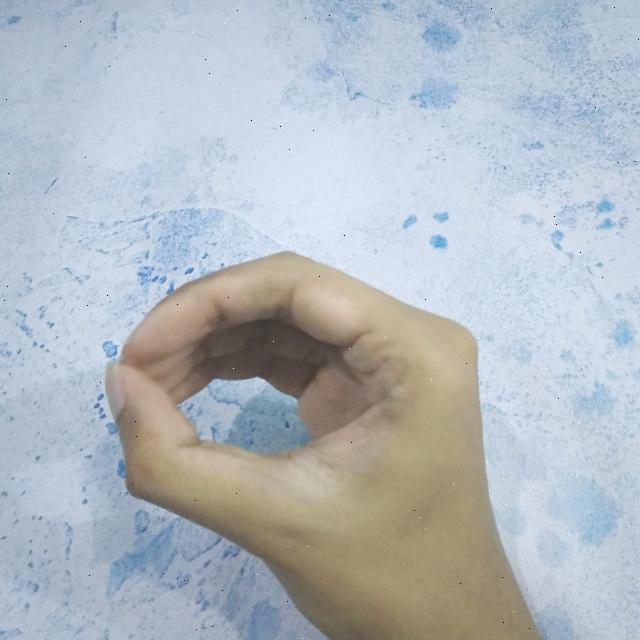O: (96, 239, 516, 640)
